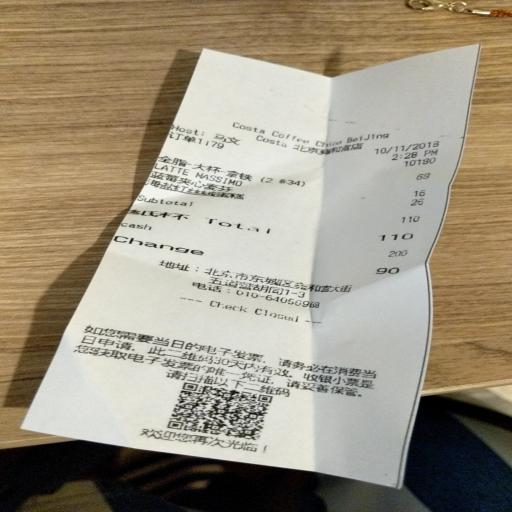paper: (28, 33, 512, 512)
